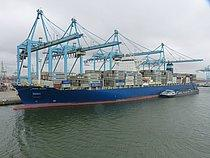Ship: (12, 55, 204, 111)
